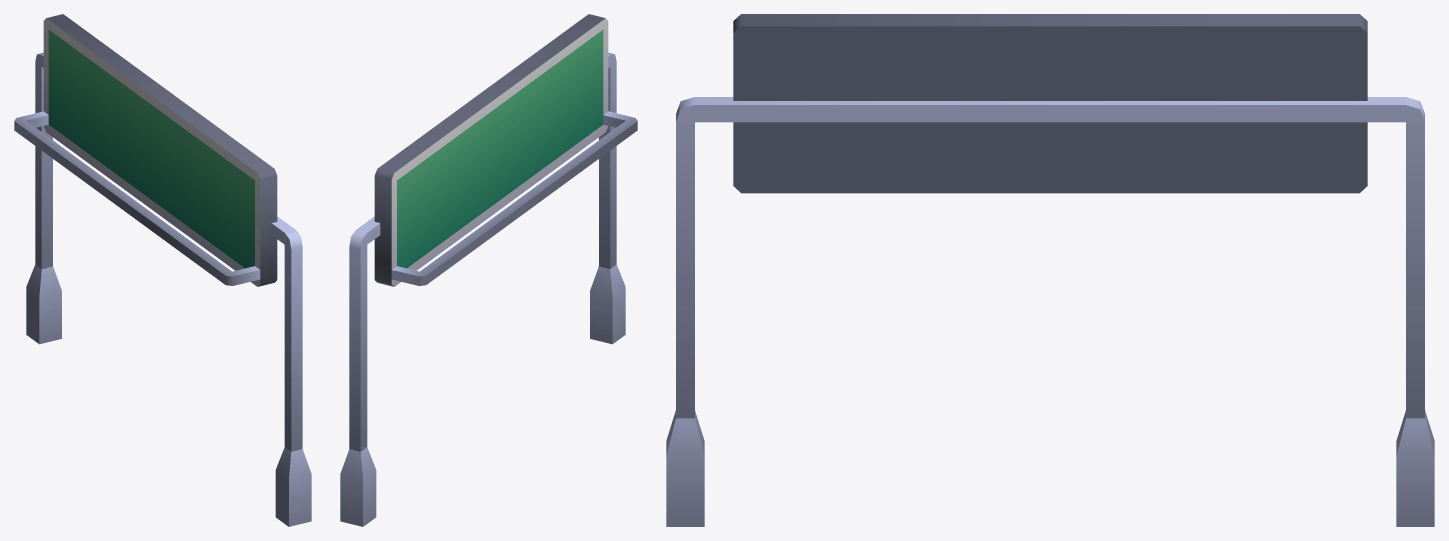
Rendered from sign-highway-wide.fbx.
3 views of the same model, side by side, from view 1: azimuth 30°, elevation 25°; view 2: azimuth 150°, elevation 25°; view 3: azimuth 270°, elevation 25° (orthographic). The views are drawn at different scales.
Visible parts, largest first — view 1: sign-highway-wide; view 2: sign-highway-wide; view 3: sign-highway-wide.
Part boxes in pixels (bbox=[...]): sign-highway-wide: bbox=[14, 14, 311, 526]; sign-highway-wide: bbox=[340, 14, 637, 526]; sign-highway-wide: bbox=[666, 14, 1434, 526].
Bounding box in the file's own units: 13.24 × 70.74 × 100.
